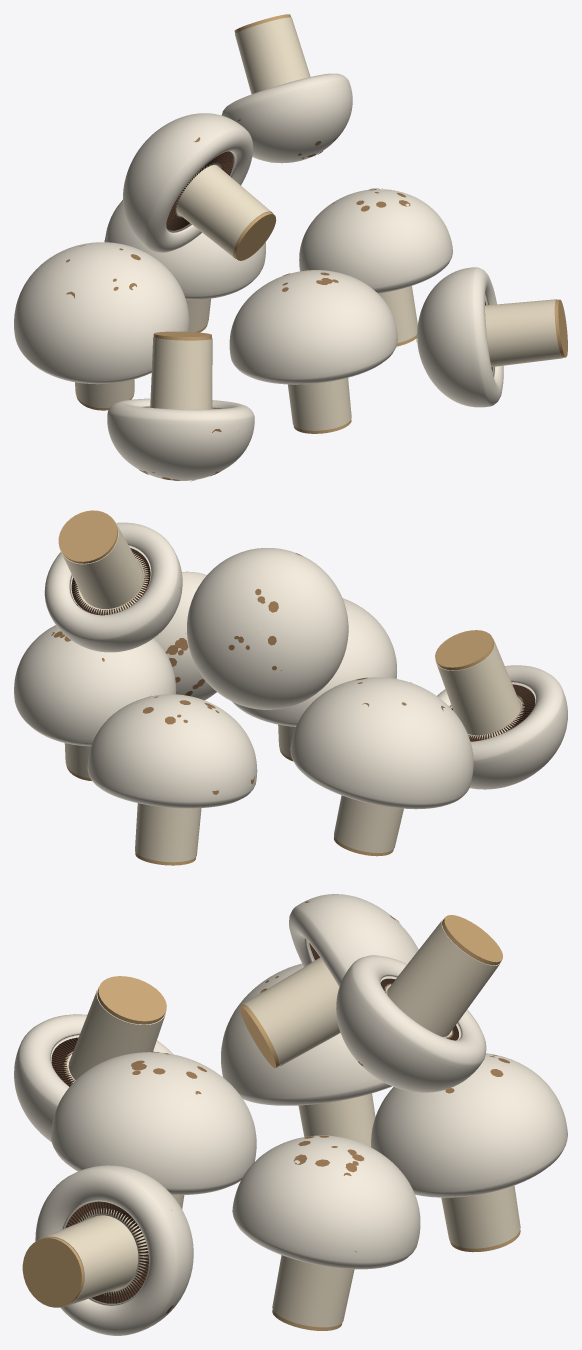
File: jamur_kancing.glb
3 renders of one model, top to bottom at view 1: azimuth 30°, elevation 25°; view 2: azimuth 150°, elevation 25°; view 3: azimuth 270°, elevation 25°, orthographic. The views are drawn at different scales.
Parts seen in each view (by area): view 1: mushroom_back_left_cap, mushroom_front_cap, mushroom_right_cap, mushroom_top_cap, mushroom_upturned_left_cap, mushroom_side_right_cap, mushroom_upturned_back_cap, mushroom_back_cap, mushroom_top_stem, mushroom_side_right_stem, mushroom_upturned_left_stem, mushroom_upturned_back_stem (+7 smaller); view 2: mushroom_top_cap, mushroom_back_left_cap, mushroom_back_cap, mushroom_right_cap, mushroom_upturned_back_cap, mushroom_upturned_left_cap, mushroom_upturned_left_stem, mushroom_front_cap, mushroom_back_stem, mushroom_upturned_back_stem, mushroom_back_left_stem, mushroom_side_right_cap (+6 smaller); view 3: mushroom_front_cap, mushroom_back_cap, mushroom_right_cap, mushroom_side_right_cap, mushroom_upturned_back_cap, mushroom_back_left_cap, mushroom_top_cap, mushroom_upturned_back_stem, mushroom_top_stem, mushroom_upturned_left_cap, mushroom_right_stem, mushroom_side_right_stem (+11 smaller).
Boxes of the visible parts, box(x1,y1,x2,y2) form: mushroom_back_left_cap: box(14, 242, 189, 384); mushroom_front_cap: box(229, 270, 397, 384); mushroom_right_cap: box(299, 189, 452, 293); mushroom_top_cap: box(123, 113, 253, 252); mushroom_upturned_left_cap: box(107, 398, 254, 480); mushroom_side_right_cap: box(417, 267, 503, 407); mushroom_upturned_back_cap: box(221, 73, 352, 163); mushroom_back_cap: box(105, 200, 265, 299); mushroom_top_stem: box(176, 165, 273, 258); mushroom_side_right_stem: box(485, 299, 562, 366); mushroom_upturned_left_stem: box(150, 337, 212, 409); mushroom_upturned_back_stem: box(235, 17, 310, 94); mushroom_top_cap: box(187, 548, 348, 709); mushroom_back_left_cap: box(290, 677, 473, 809); mushroom_back_cap: box(87, 694, 257, 808); mushroom_right_cap: box(14, 625, 176, 746); mushroom_upturned_back_cap: box(44, 522, 182, 652); mushroom_upturned_left_cap: box(437, 665, 567, 789); mushroom_upturned_left_stem: box(435, 638, 520, 735); mushroom_front_cap: box(232, 598, 396, 726); mushroom_back_stem: box(135, 803, 201, 862); mushroom_upturned_back_stem: box(59, 518, 142, 608); mushroom_back_left_stem: box(334, 795, 403, 852); mushroom_side_right_cap: box(154, 571, 216, 700); mushroom_front_cap: box(51, 1052, 256, 1195); mushroom_back_cap: box(371, 1053, 567, 1197); mushroom_right_cap: box(232, 1135, 420, 1269); mushroom_side_right_cap: box(35, 1165, 193, 1335); mushroom_upturned_back_cap: box(336, 955, 486, 1092); mushroom_back_left_cap: box(221, 963, 391, 1105); mushroom_top_cap: box(289, 894, 418, 986); mushroom_upturned_back_stem: box(387, 919, 500, 1036); mushroom_top_stem: box(243, 957, 340, 1066); mushroom_upturned_left_cap: box(14, 1014, 173, 1142); mushroom_right_stem: box(272, 1255, 354, 1327); mushroom_side_right_stem: box(36, 1215, 138, 1307).
Size of the model in its own units: 0.145 by 0.0948 by 0.1294.
